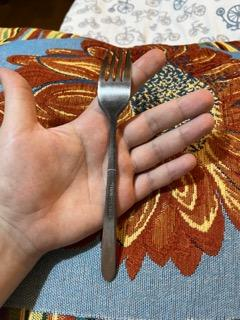fork: (96, 44, 135, 284)
